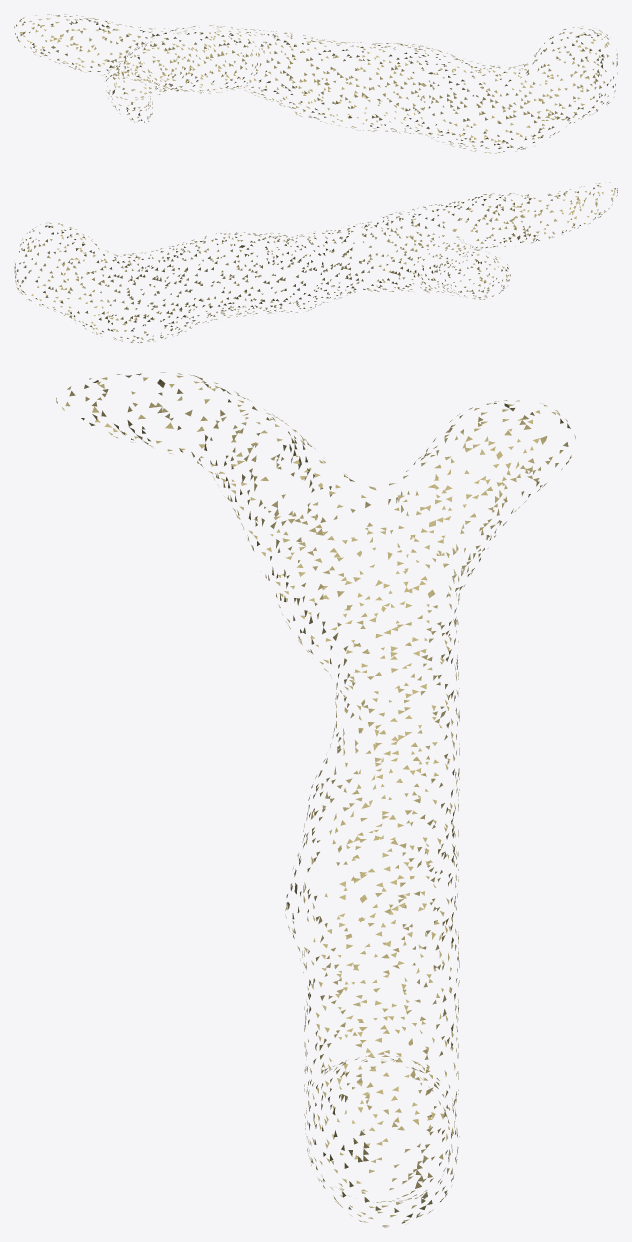
Rendered from morph_008.glb.
3 views of the same model, one above another, from view 1: azimuth 30°, elevation 25°; view 2: azimuth 150°, elevation 25°; view 3: azimuth 270°, elevation 25° (orthographic). The views are drawn at different scales.
Bounding box in the file's own units: 119 × 45.5 × 51.74.
